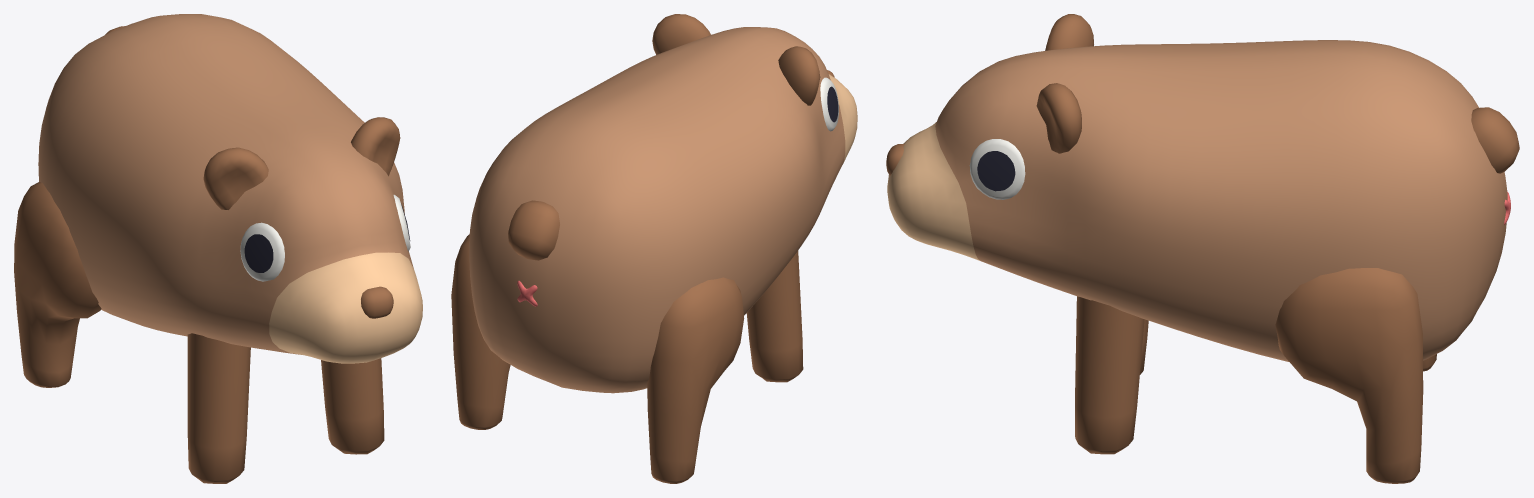
File: Bear.glb
3 views of the same model, side by side, from view 1: azimuth 30°, elevation 25°; view 2: azimuth 150°, elevation 25°; view 3: azimuth 270°, elevation 25° (orthographic). The views are drawn at different scales.
Visible parts, largest first — view 1: Bear; view 2: Bear; view 3: Bear.
Boxes of the visible parts, bbox=[...] form: Bear: bbox=[14, 14, 422, 483]; Bear: bbox=[451, 14, 857, 483]; Bear: bbox=[886, 14, 1519, 483].
Bounding box in the file's own units: 1.77 × 2.03 × 3.2.
Materials: 1 (1 with a texture image).
